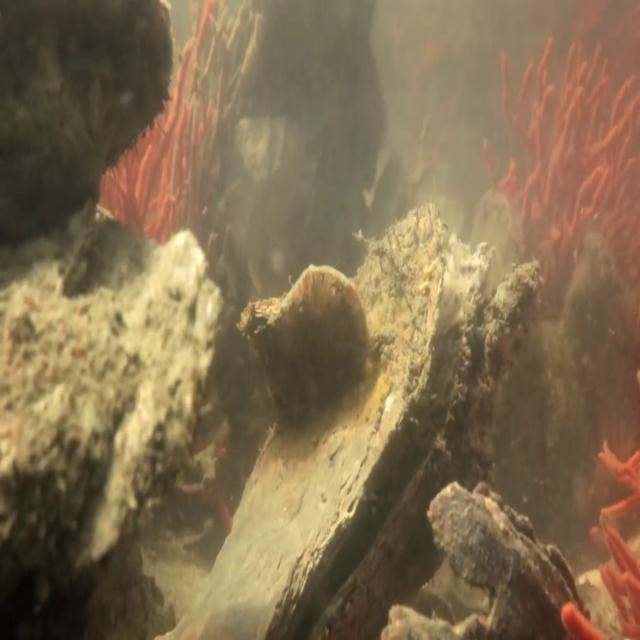Oyster-Closed: (380, 475, 581, 639)
Oyster-Indeterminate: (2, 207, 222, 630), (0, 0, 174, 248)
Oyster-Open: (164, 176, 551, 637)
